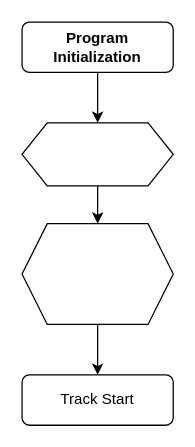
This 195x447 diagram has some shape labels left out. Here are the shapes that lost their labels. From the top down, the box of each, then its label:
(21, 122, 173, 186): Sensor Calibration
(21, 222, 173, 324): Track Setting DAQ Setting
